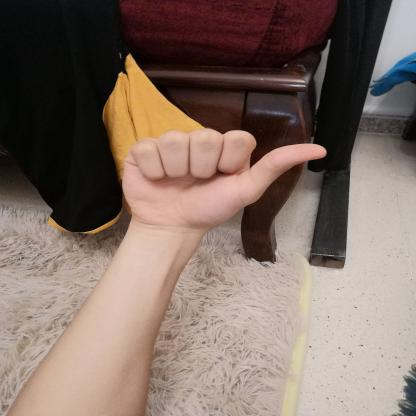DAD: (107, 118, 341, 242)
